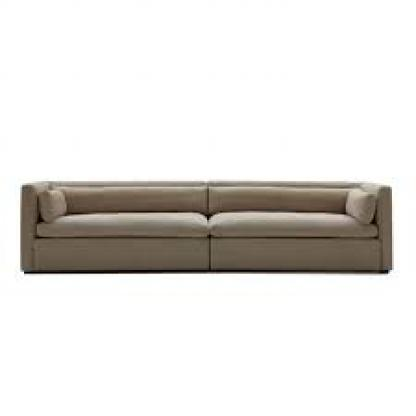sofa: (17, 181, 396, 276)
